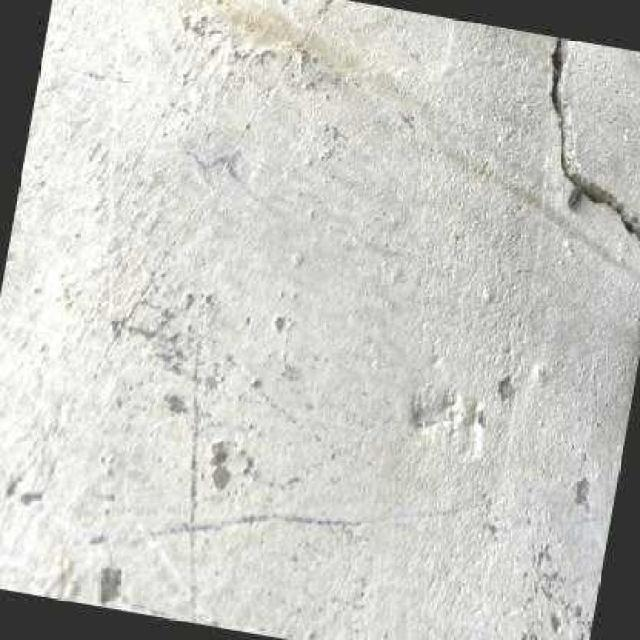D00: (548, 36, 640, 246)
